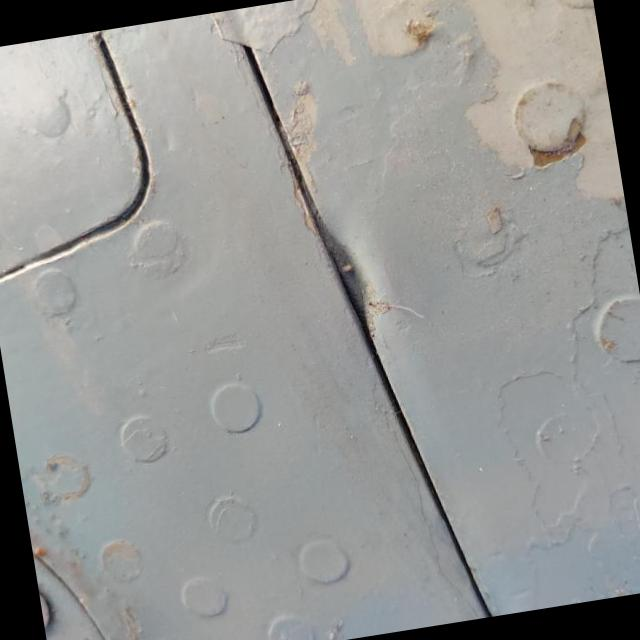Dent: (309, 226, 379, 338)
